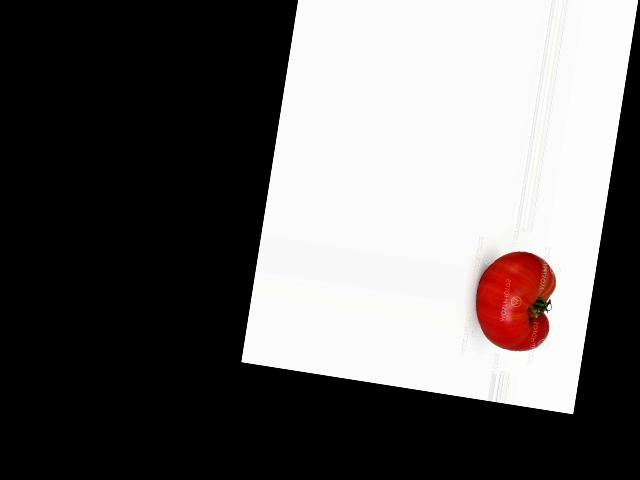tomato: (469, 245, 560, 355)
